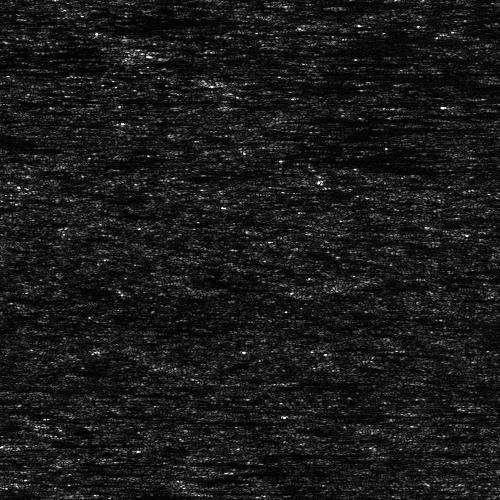object: (230, 377, 293, 382), (18, 496, 39, 499), (485, 161, 500, 164)
shadow: (28, 496, 138, 499), (262, 377, 320, 382)
